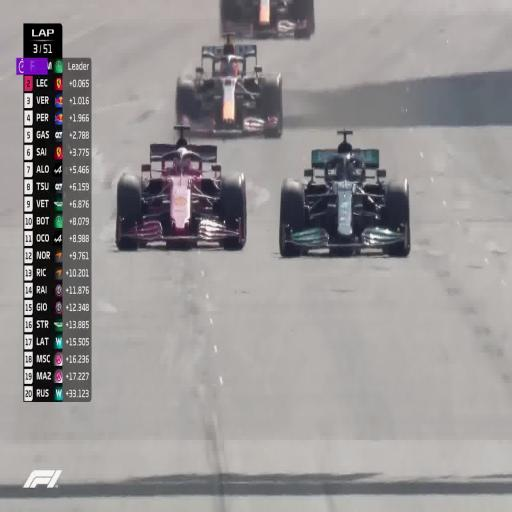f1_car: (279, 129, 410, 256), (115, 126, 246, 248), (176, 34, 282, 137), (220, 0, 314, 38)
